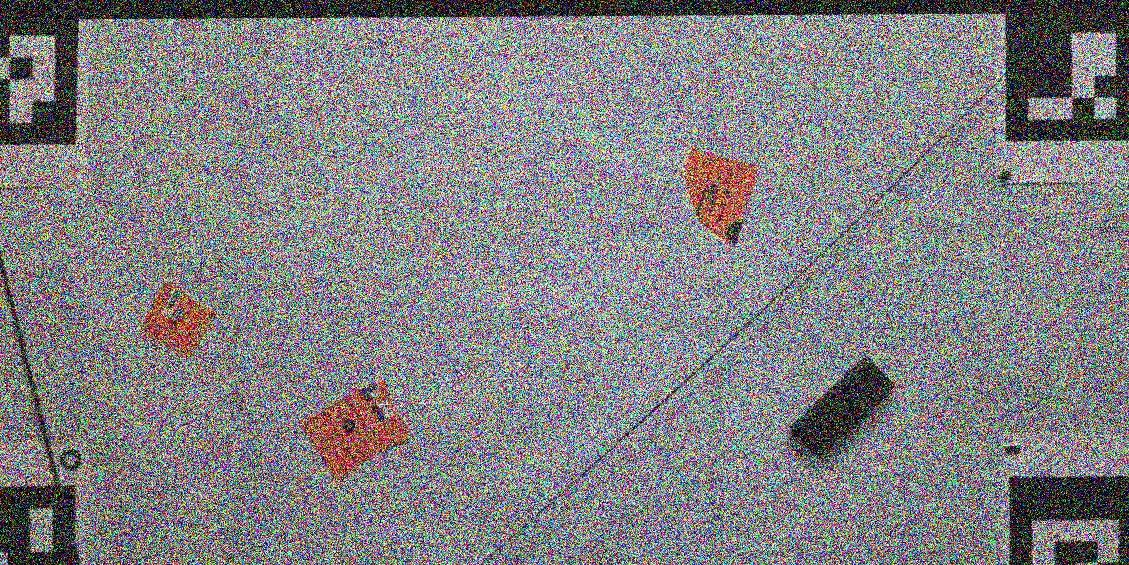obstacle: (785, 351, 896, 461), (298, 376, 413, 480), (677, 142, 758, 249), (136, 276, 222, 361)
